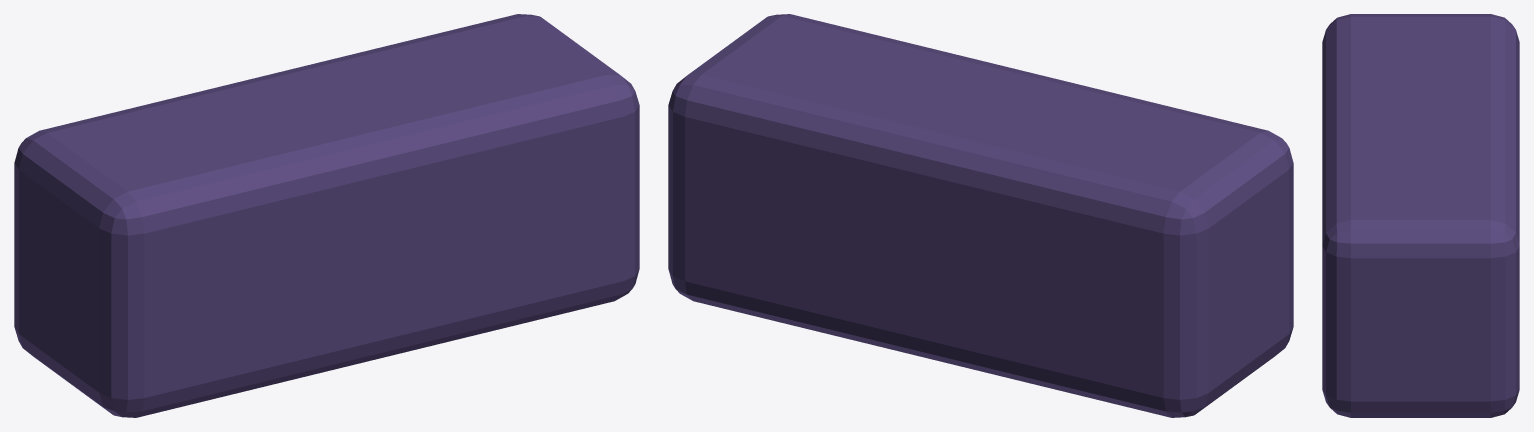
The model's file is SM_LowCover_01.fbx.
3 views of the same model, side by side, from view 1: azimuth 30°, elevation 25°; view 2: azimuth 150°, elevation 25°; view 3: azimuth 270°, elevation 25° (orthographic). The views are drawn at different scales.
Visible parts, largest first — view 1: SM_LowCover; view 2: SM_LowCover; view 3: SM_LowCover.
Boxes of the visible parts, x1=… form: SM_LowCover: x1=14, y1=14, x2=639, y2=417; SM_LowCover: x1=668, y1=14, x2=1293, y2=417; SM_LowCover: x1=1322, y1=14, x2=1519, y2=417.
Size of the model in its own units: 300 by 120 by 110.
